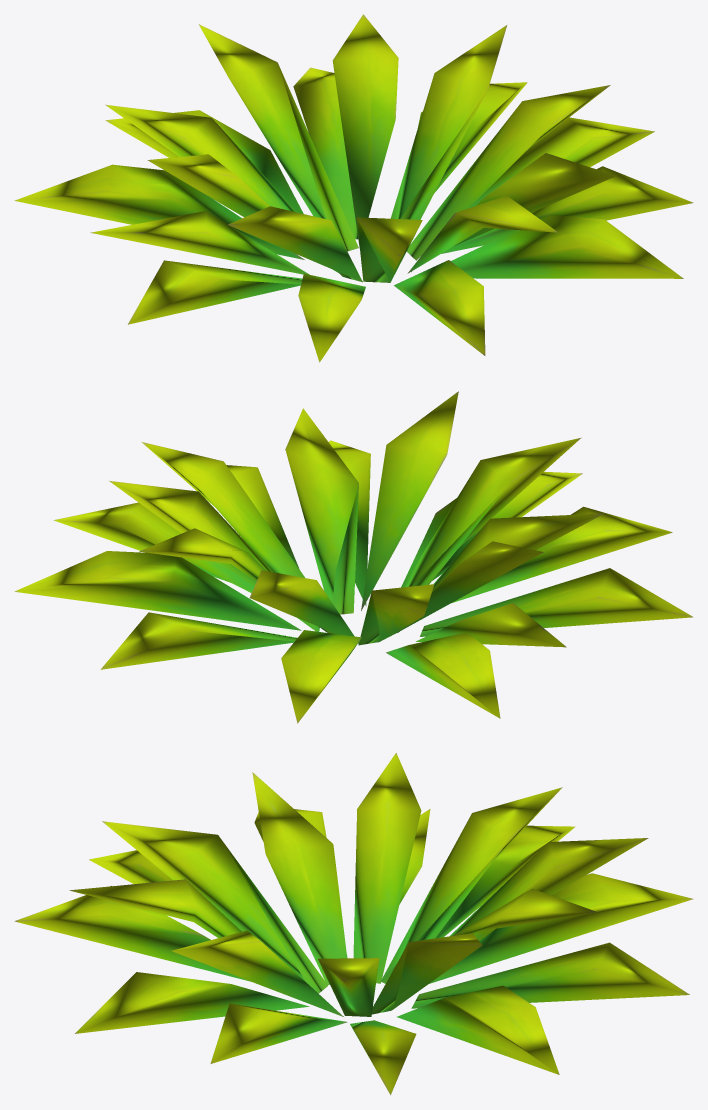
The model's file is grass_cushion.glb.
3 views of the same model, one above another, from view 1: azimuth 30°, elevation 25°; view 2: azimuth 150°, elevation 25°; view 3: azimuth 270°, elevation 25° (orthographic). The views are drawn at different scales.
Visible parts, largest first — view 1: geometry_0; view 2: geometry_0; view 3: geometry_0.
Boxes of the visible parts, box(x1,y1,x2,y2) form: geometry_0: box(14, 14, 693, 362); geometry_0: box(14, 391, 693, 723); geometry_0: box(14, 753, 693, 1095).
Bounding box in the file's own units: 0.9653 × 0.2329 × 0.9502.
1 material, 1 textured.
